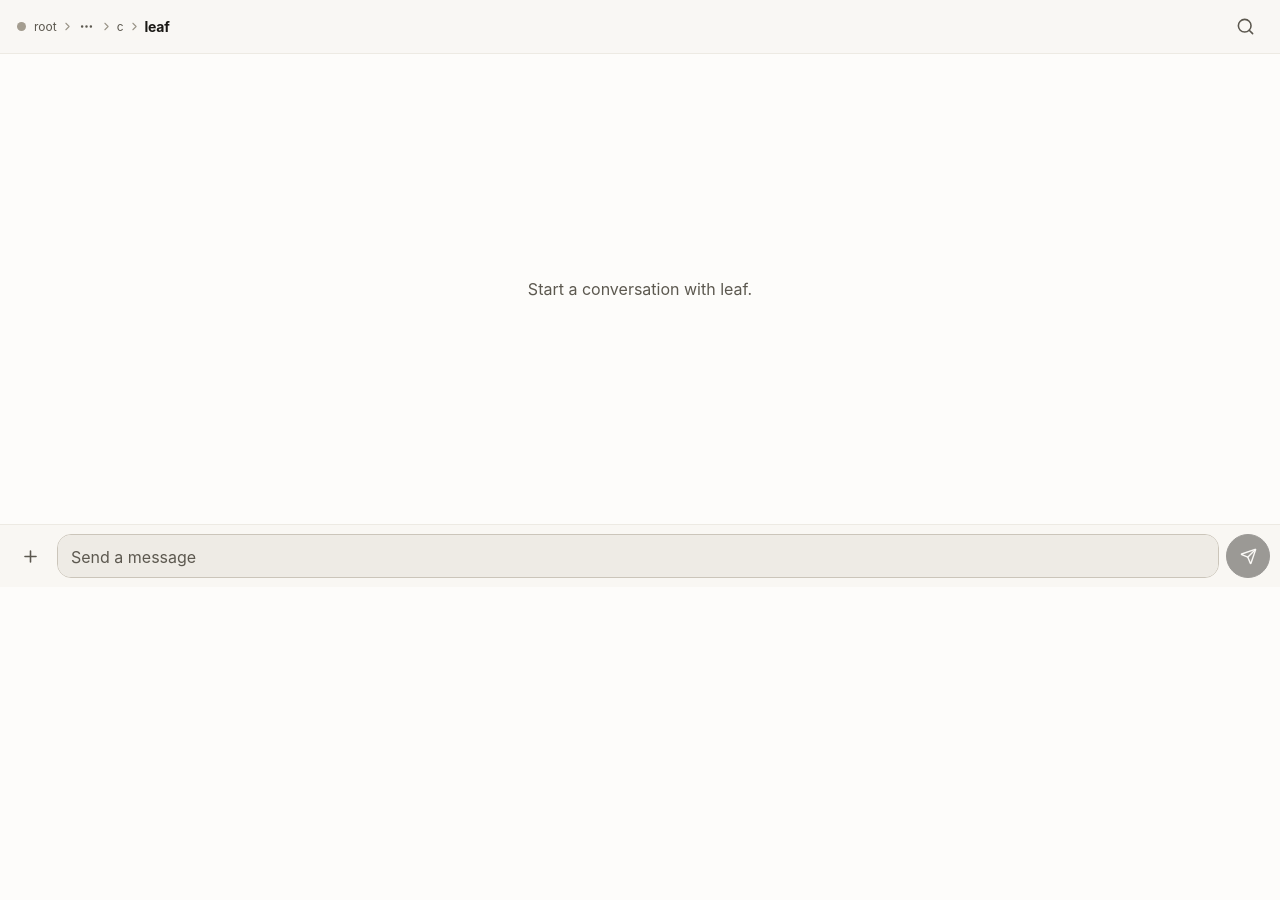
Test case: agent switching resets scroll state › collapses a deep lineage behind an ancestor menu, keeping the root and immediate parent legible
Expected: the button "root" is shown, top-left (30, 13), bottom-right (61, 40)
Expected: the button "c" is shown, top-left (113, 13), bottom-right (128, 40)
Step 1. Click the button named "Open 2 hidden ancestors" → point(87, 26), box top-left (74, 12), bottom-right (100, 42)
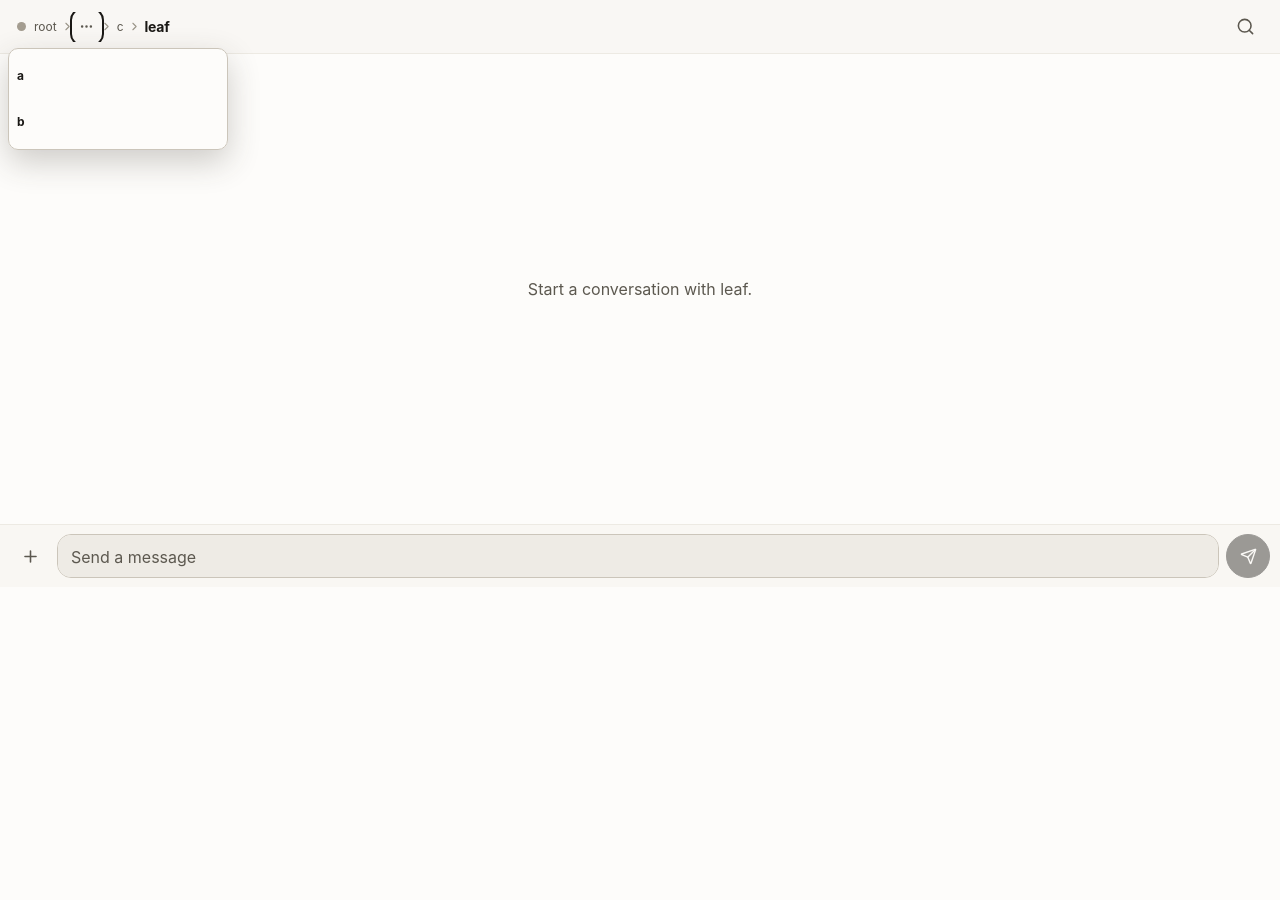
Expected: the dialog named "Ancestors" is shown, top-left (8, 48), bottom-right (228, 150)
Expected: the menu item "a" is shown
Expected: the menu item "b" is shown, top-left (13, 98), bottom-right (223, 144)
Step 2. Click the menu item "a" → point(118, 76), box top-left (13, 52), bottom-right (223, 98)
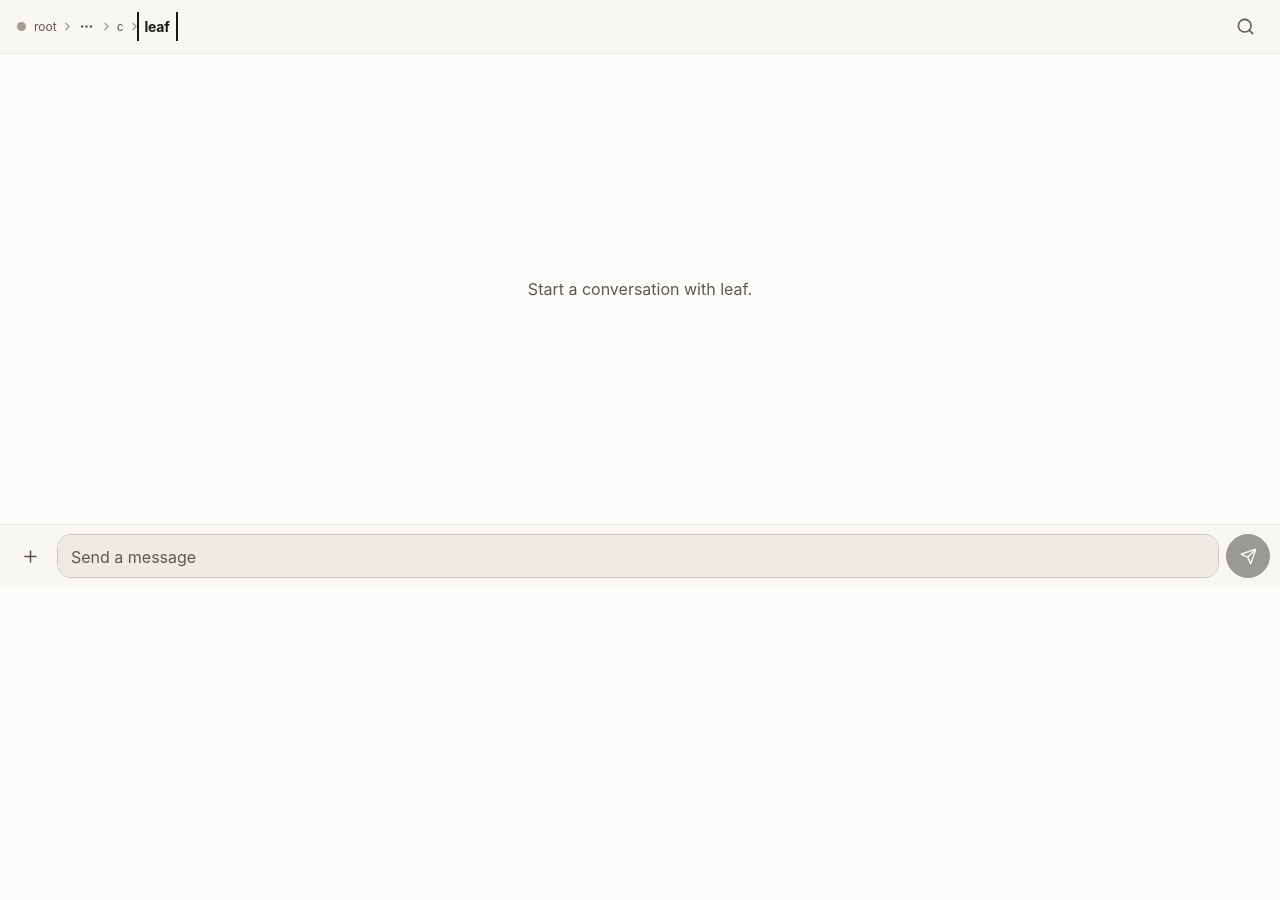
Expected: the menu "Ancestors" is gone
